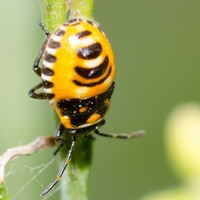insect: (29, 19, 143, 195)
